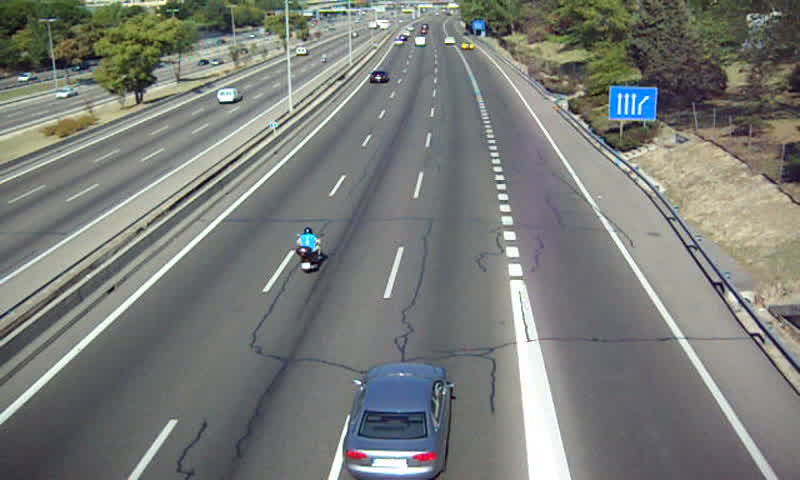car: (343, 362, 448, 480), (368, 69, 388, 85)
motorcycle: (295, 227, 325, 271)
